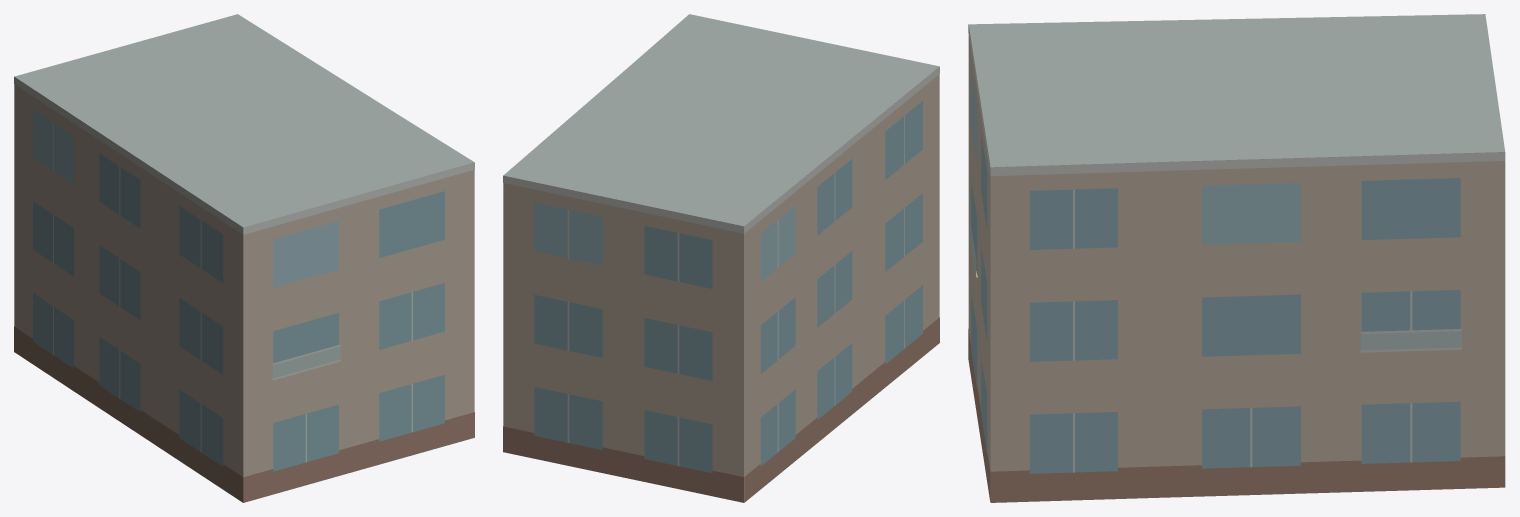
The model's file is survey-upis-32590713.glb.
3 renders of one model, left to right at view 1: azimuth 30°, elevation 25°; view 2: azimuth 150°, elevation 25°; view 3: azimuth 270°, elevation 25°, orthographic. The views are drawn at different scales.
Parts seen in each view (by area): view 1: survey-upis-32590713.tmp; view 2: survey-upis-32590713.tmp; view 3: survey-upis-32590713.tmp.
Boxes of the visible parts, box(x1,y1,x2,y2) form: survey-upis-32590713.tmp: box(14, 14, 474, 502); survey-upis-32590713.tmp: box(503, 14, 939, 502); survey-upis-32590713.tmp: box(968, 14, 1505, 502).
Size of the model in its own units: 8.97 by 9.15 by 13.27.
